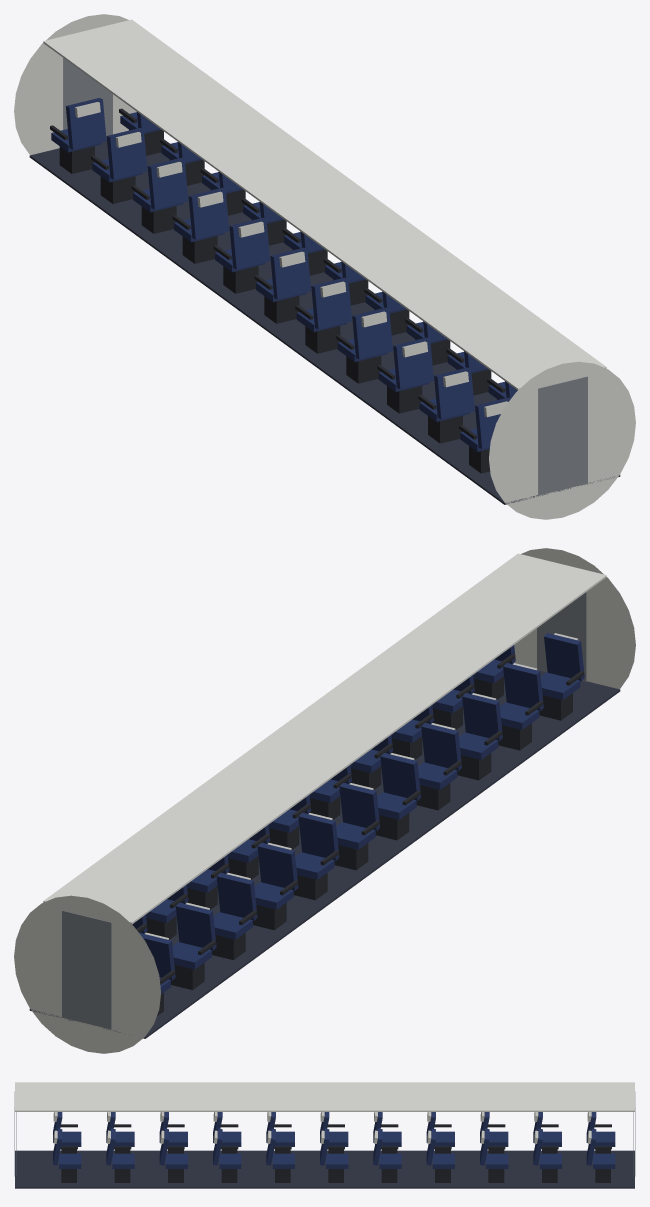
The model's file is lat_trijet_biz_cabin.dae.
The picture shows the model from 3 angles, top to bottom: view 1: azimuth 30°, elevation 25°; view 2: azimuth 150°, elevation 25°; view 3: azimuth 270°, elevation 25°; orthographic projection. The views are drawn at different scales.
Parts seen in each view (by area): view 1: lat_trijet_biz_cabin64; view 2: lat_trijet_biz_cabin64; view 3: lat_trijet_biz_cabin64.
Part boxes in pixels (x1=…): lat_trijet_biz_cabin64: x1=14, y1=14, x2=635, y2=519; lat_trijet_biz_cabin64: x1=14, y1=548, x2=635, y2=1053; lat_trijet_biz_cabin64: x1=14, y1=1082, x2=635, y2=1188.
Bounding box in the file's own units: 2.39 × 13.4 × 2.39.
